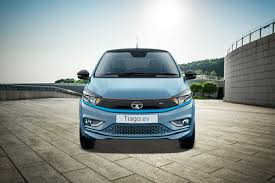Tiago: (75, 44, 197, 155)
